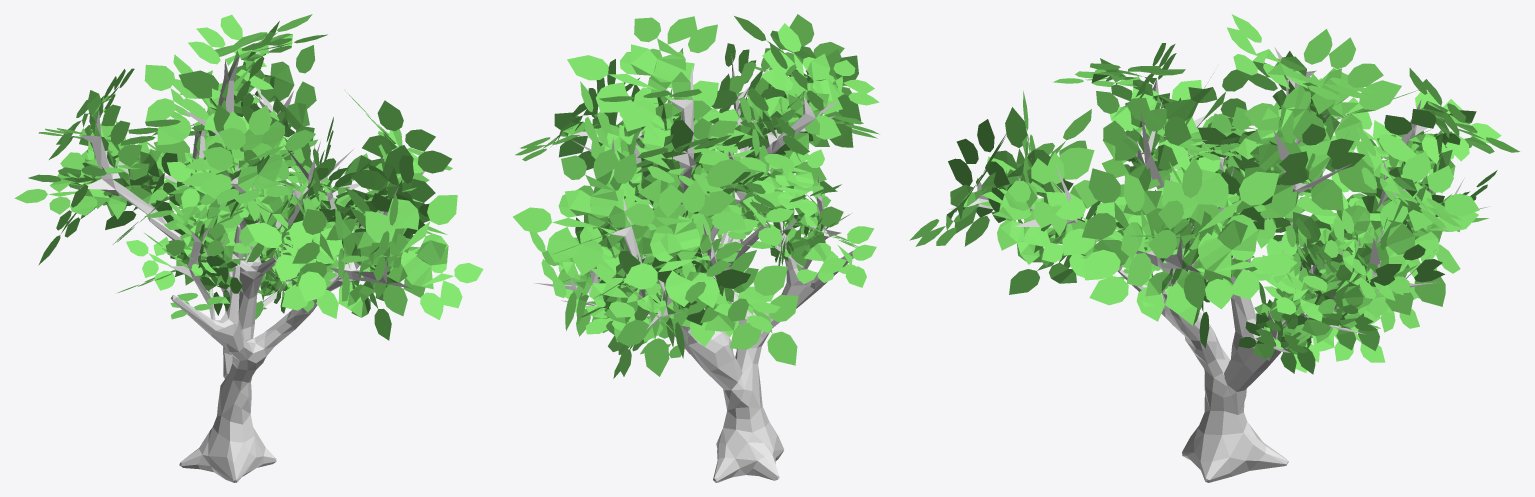
Rendered from tree.blend1.fbx.
The picture shows the model from 3 angles, left to right: view 1: azimuth 30°, elevation 25°; view 2: azimuth 150°, elevation 25°; view 3: azimuth 270°, elevation 25°; orthographic projection. The views are drawn at different scales.
Parts seen in each view (by area): view 1: tree; view 2: tree; view 3: tree.
Boxes of the visible parts, x1,y1,x2,y2 form: tree: [14, 14, 483, 482]; tree: [513, 14, 879, 482]; tree: [909, 14, 1519, 482].
Bounding box in the file's own units: 300 × 353 × 419.
